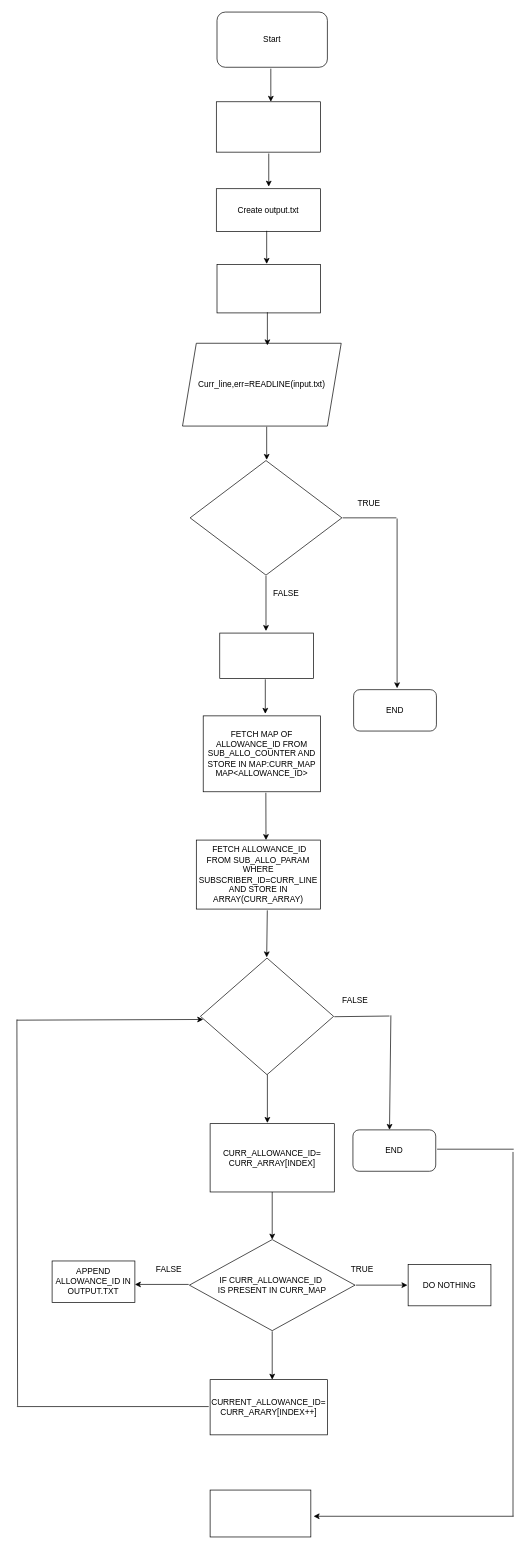
The diagram is 531 pixels wide and 1549 high, and some of its shapes have lost their labels. The box of each missing label's shape, as (x1, y1, x2, y2) in pixels:
Create input.txt: (216, 101, 321, 152)
ERR !=NIL: (189, 460, 342, 575)
GOT TO THE NEXT LINE IN INPUT FILE AND READ: (209, 1489, 311, 1537)
INDEX<=LEN(CURR_ARRAY): (200, 957, 334, 1075)
Open DB Connection: (216, 264, 321, 313)
SUBSCRIBER_ID = CURR_LINE: (219, 632, 314, 679)
